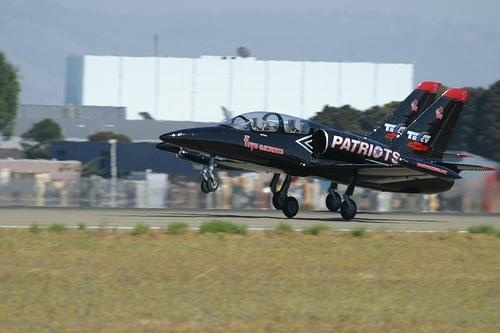aeroplane: (160, 78, 496, 220)
